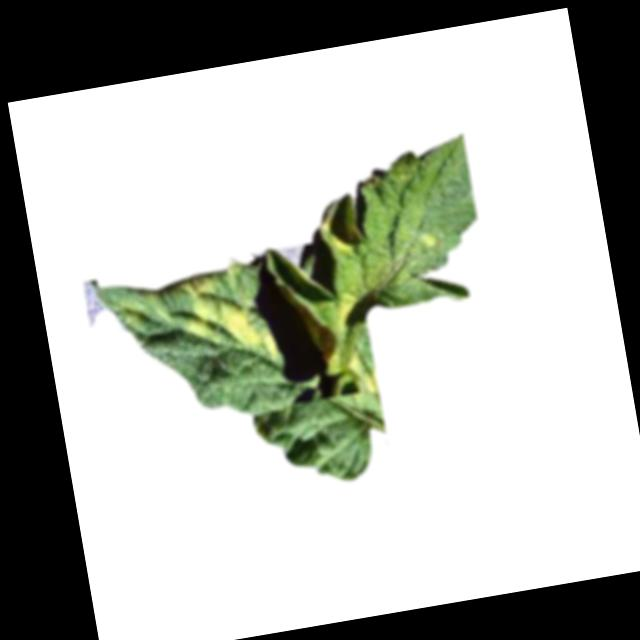Leaf_Mold: (175, 259, 282, 382), (288, 290, 378, 406), (324, 228, 356, 260)
